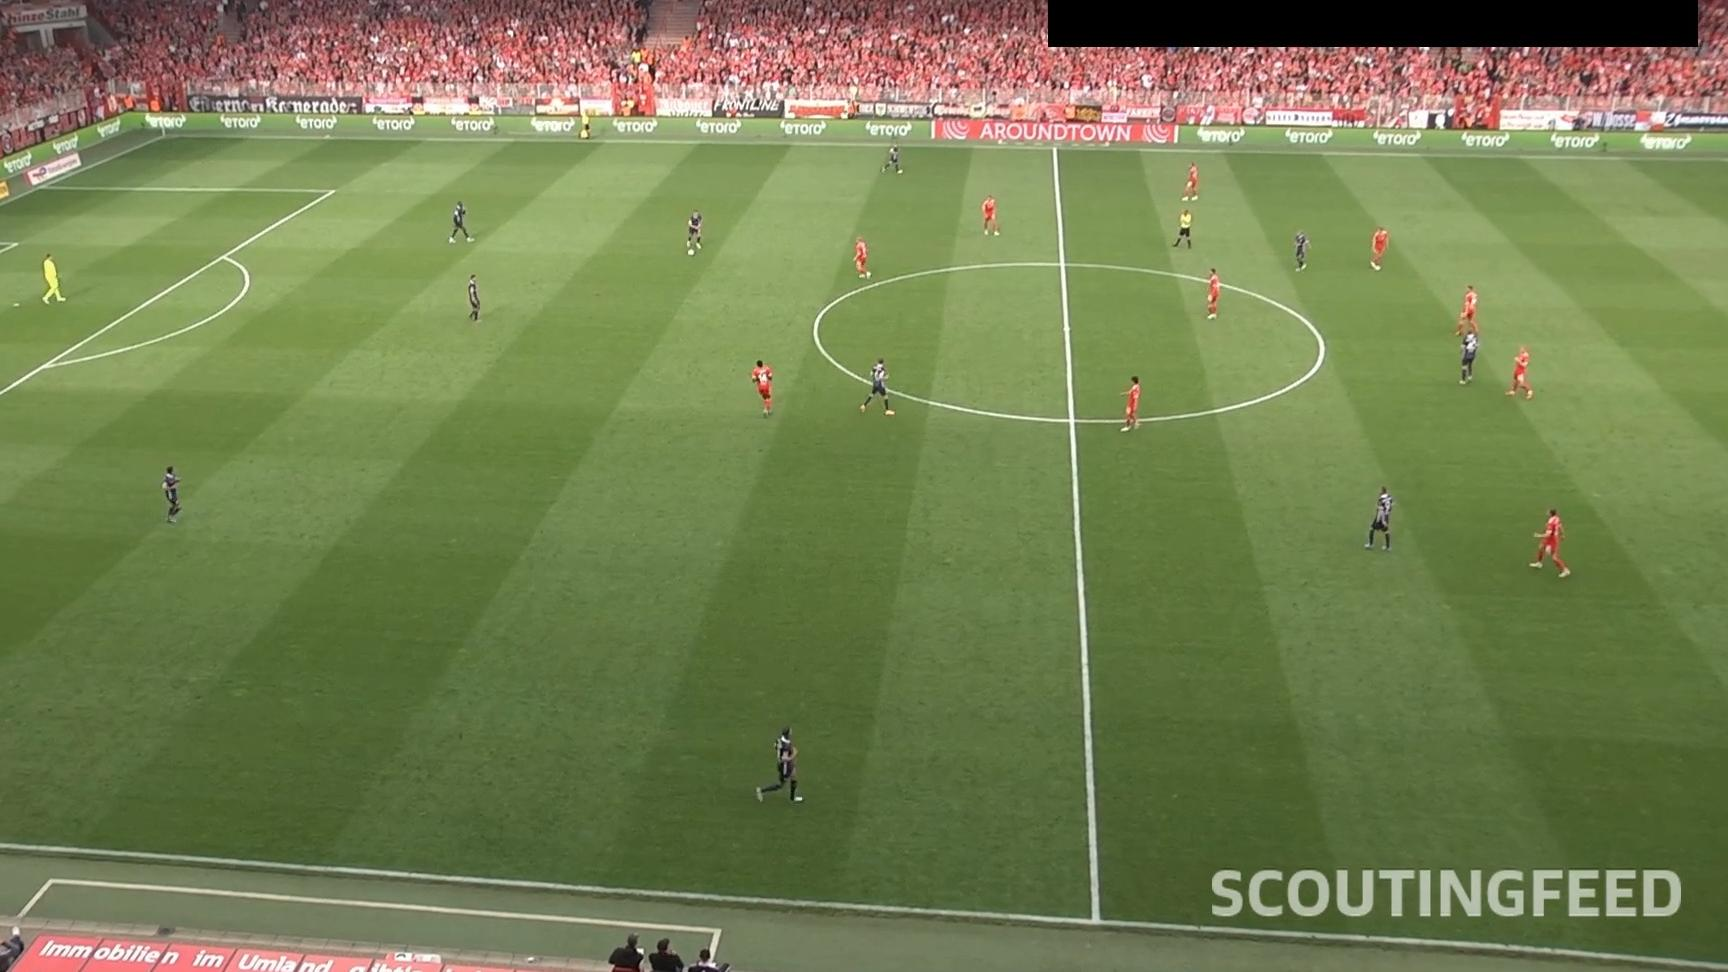ball: (686, 248, 695, 258)
